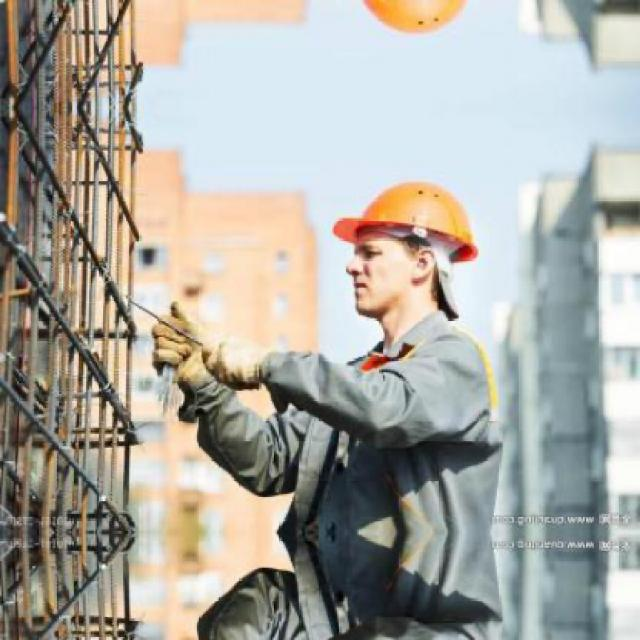helmet: (330, 158, 488, 332), (330, 0, 488, 55)
